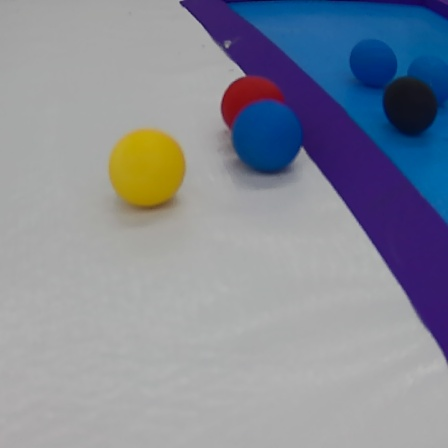black: (380, 80, 448, 134)
blue: (230, 100, 309, 173), (350, 37, 398, 90), (410, 48, 448, 106)
blue_aim: (170, 0, 448, 387)
red: (212, 76, 293, 133)
yellow: (108, 128, 187, 218)
